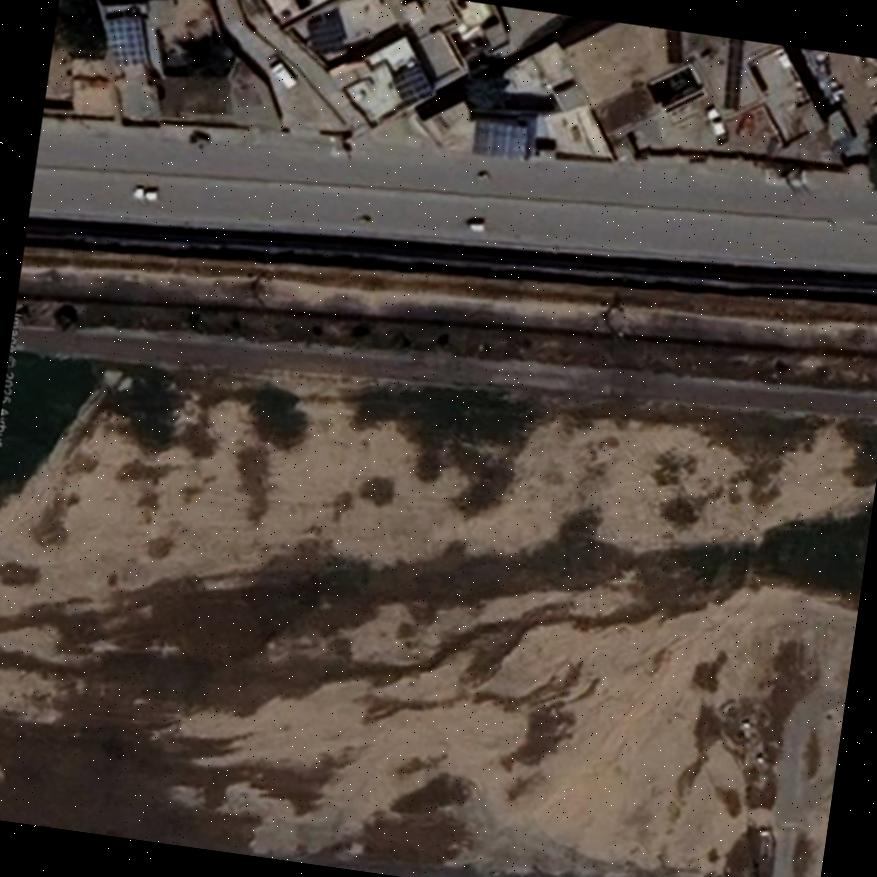Solarpanel: (102, 13, 149, 67), (468, 121, 530, 157), (308, 6, 347, 58), (389, 60, 435, 103), (724, 38, 746, 109)
